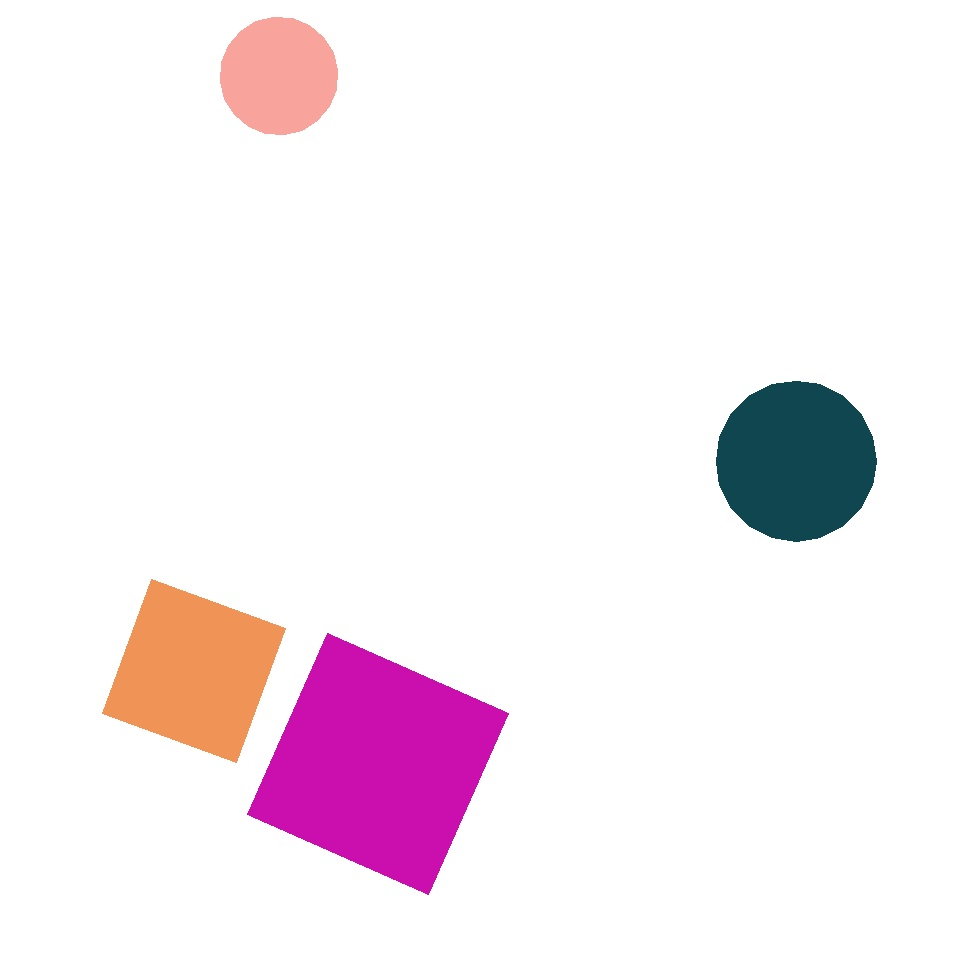circle: (584, 111, 890, 437)
square: (248, 634, 508, 894), (103, 580, 286, 762)
triangle: (550, 90, 730, 270), (716, 381, 876, 541), (221, 17, 338, 134)
